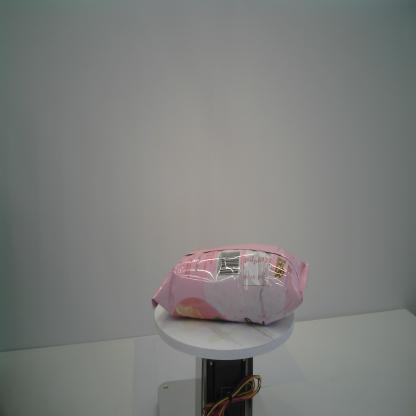Puffed Food: (151, 242, 310, 328)
